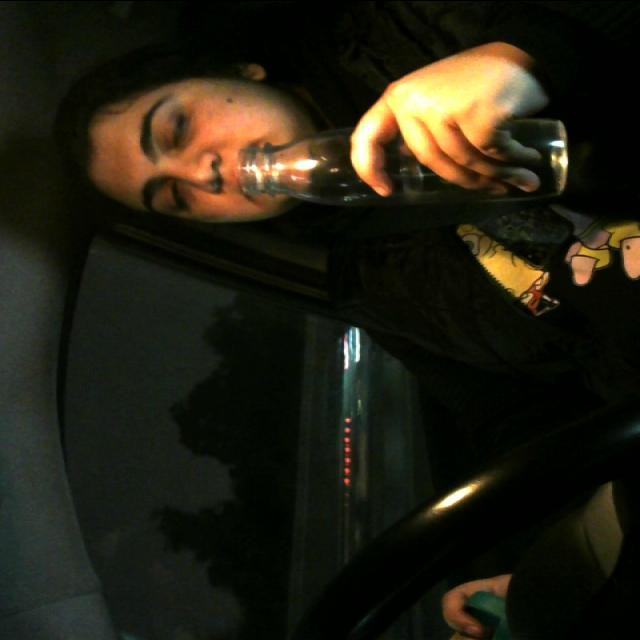drinking: (228, 106, 602, 220)
